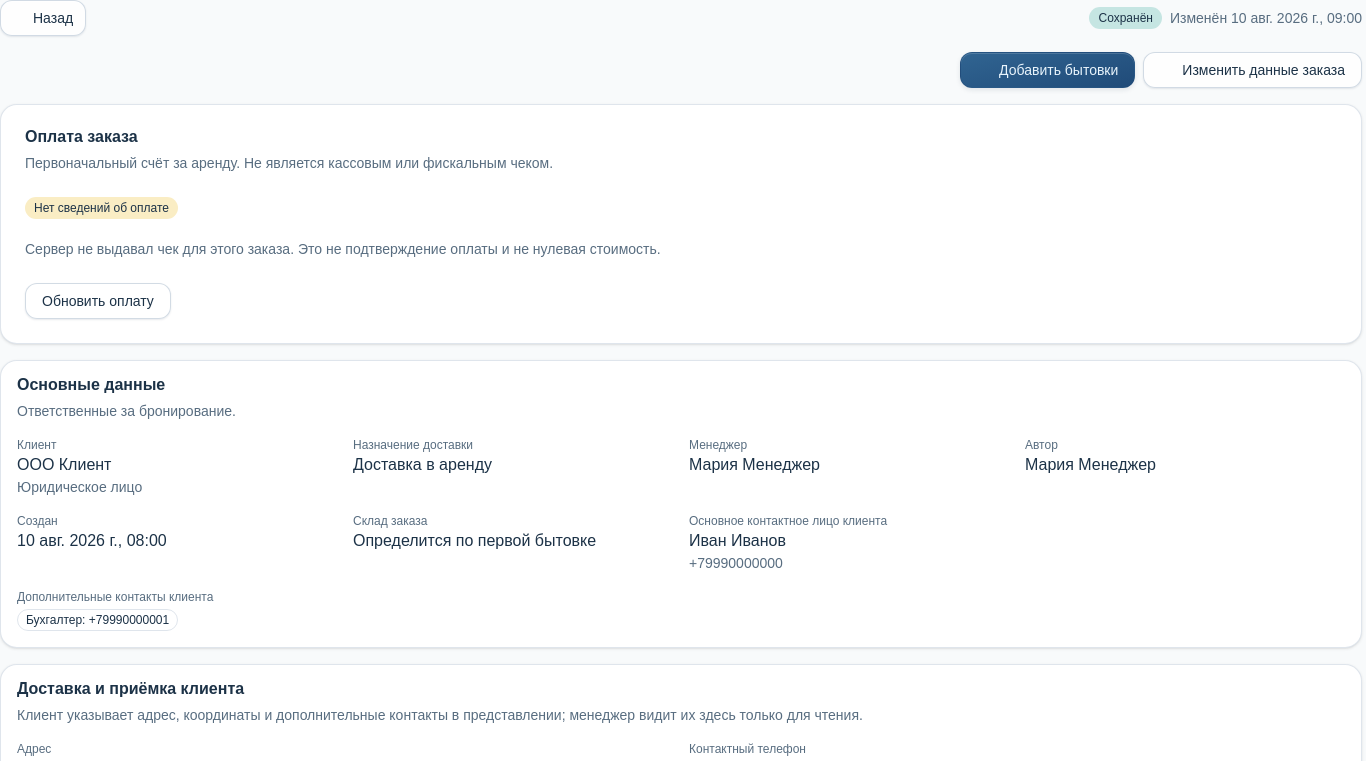
Test: OrderDetailPage cabin entry › opens both cabin paths without desired windows for an editable SAVED order
The image size is (1366, 761).
Step 1. Click the button "Добавить бытовки" → (1048, 70), box x1=960 y1=52 x2=1135 y2=88
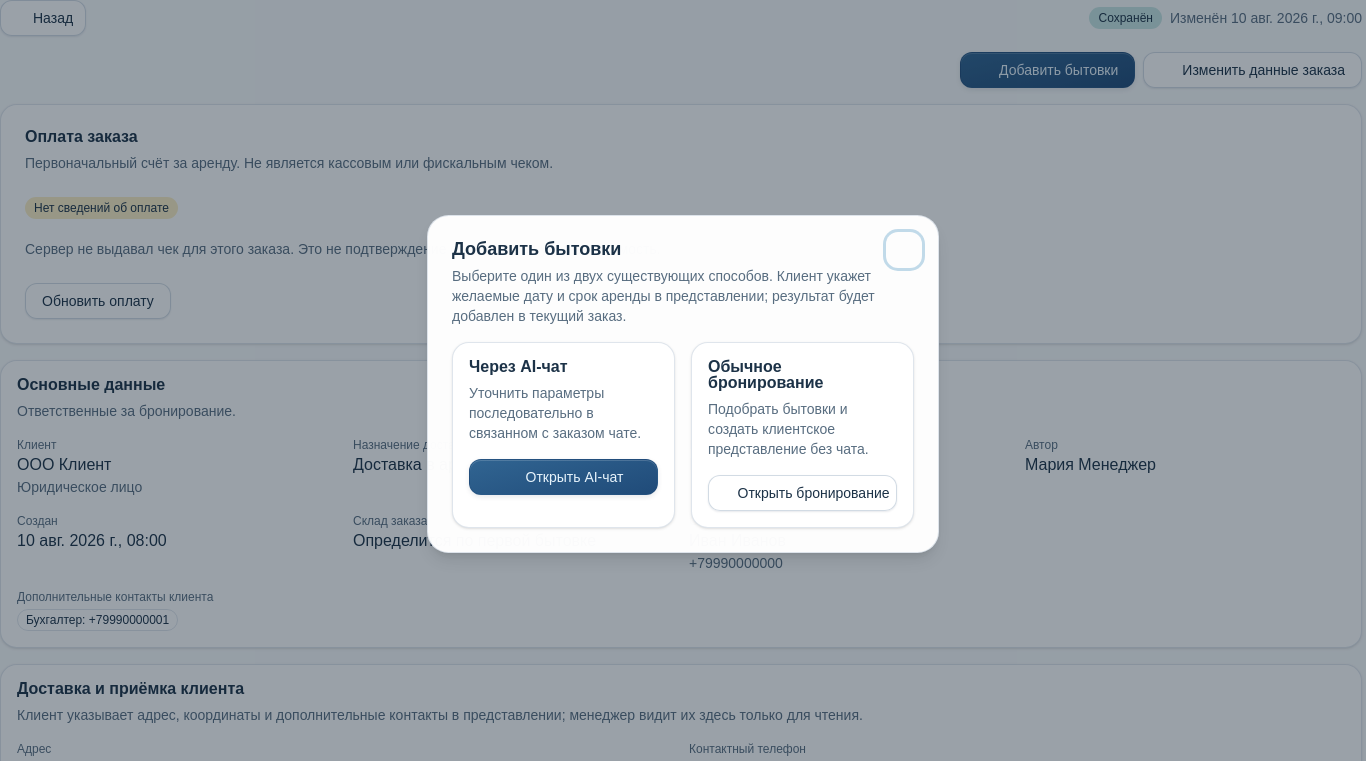
Now the text "Клиент укажет желаемые дату и срок аренды в представлении" is shown, box x1=452 y1=268 x2=875 y2=324
Now the link "Открыть AI-чат" is shown, box x1=469 y1=459 x2=658 y2=495
Now the link "Открыть бронирование" is shown, box x1=708 y1=475 x2=897 y2=511
